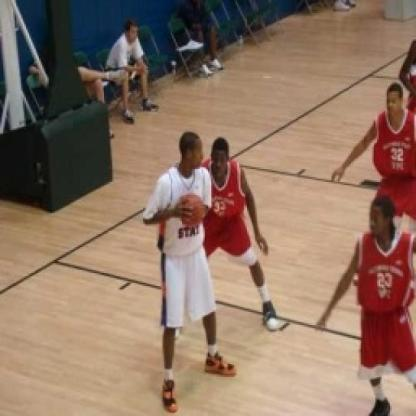basketball: (176, 191, 207, 230)
